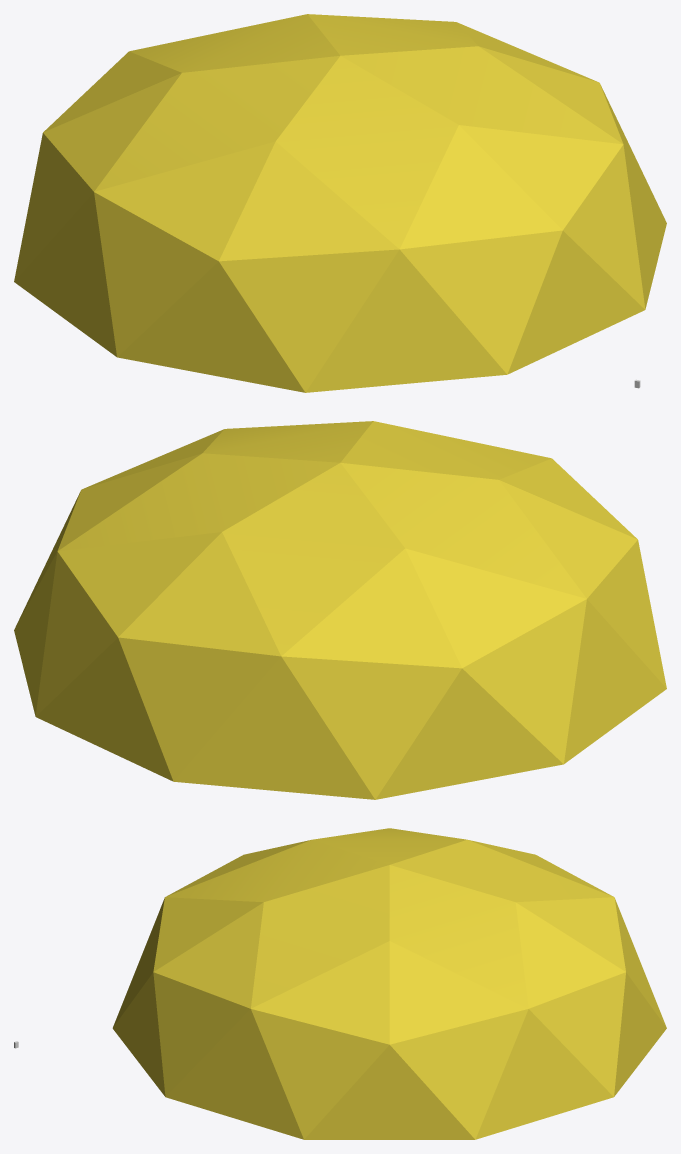
Rendered from Hangar Circular eSCALA PRUEBA.fbx.
The picture shows the model from 3 angles, top to bottom: view 1: azimuth 30°, elevation 25°; view 2: azimuth 150°, elevation 25°; view 3: azimuth 270°, elevation 25°; orthographic projection. The views are drawn at different scales.
Parts seen in each view (by area): view 1: Techo; view 2: Techo; view 3: Techo.
Boxes of the visible parts, left/top/right/bottom form: Techo: left=14, top=14, right=666, bottom=392; Techo: left=14, top=421, right=666, bottom=799; Techo: left=112, top=828, right=666, bottom=1139.
Bounding box in the file's own units: 16737 × 5770 × 20725.
